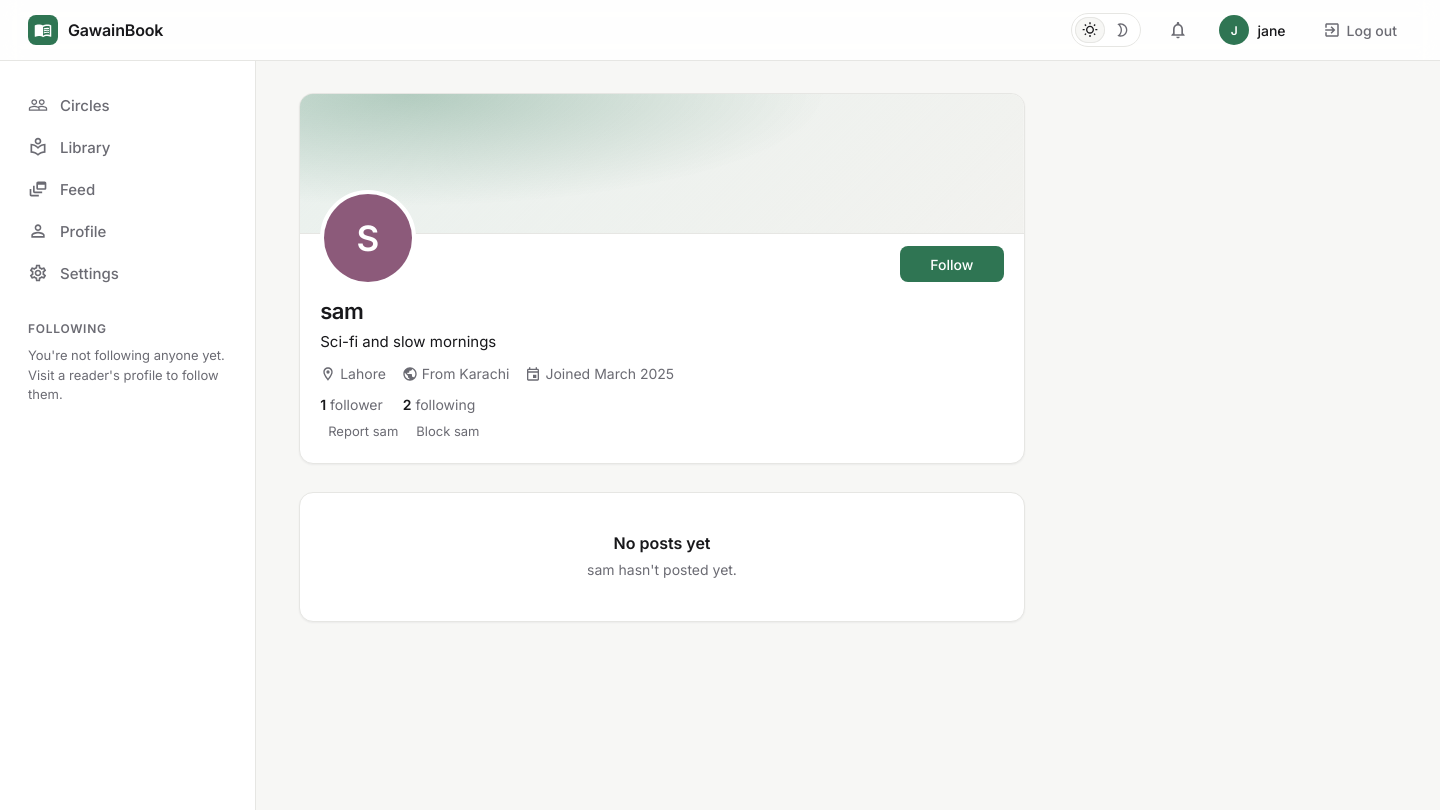
it: blocking a reader from their profile hides their posts and Follow button
Click the button "Block sam".
click(448, 431)  # box [408,419,488,443]
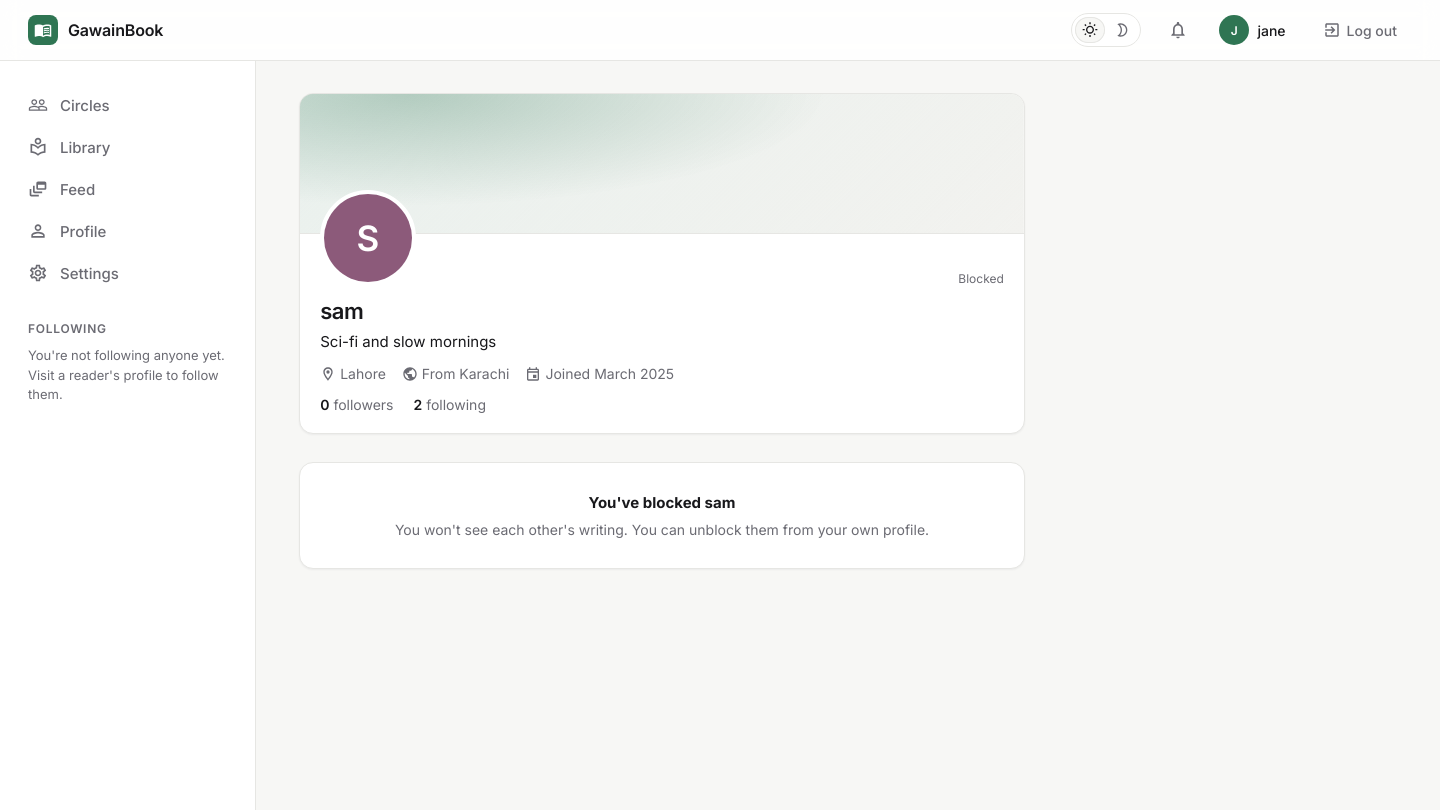
Expected: the text "You've blocked sam" is shown, [589,493,735,512]
Expected: the text "0 followers" is shown, [320,396,394,413]
